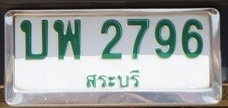txt21: (19, 19, 50, 61)
txt25: (52, 18, 83, 60)
